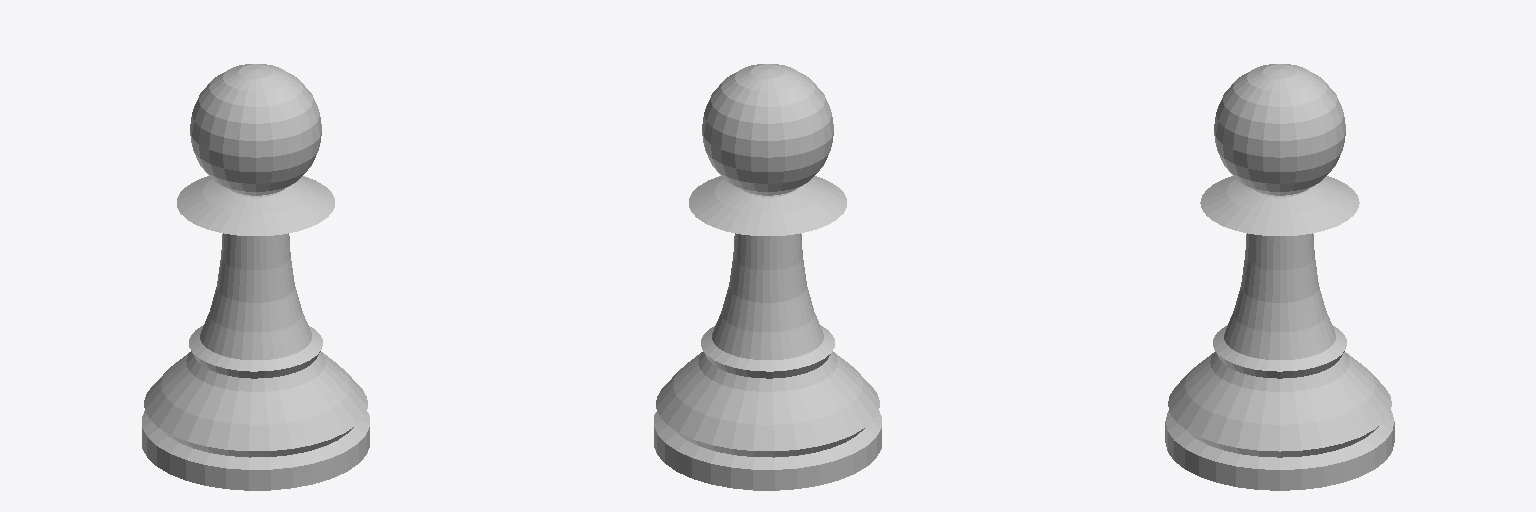
File: pawn.obj
3 views of the same model, side by side, from view 1: azimuth 30°, elevation 25°; view 2: azimuth 150°, elevation 25°; view 3: azimuth 270°, elevation 25° (orthographic).
Parts seen in each view (by area): view 1: pawn_Cylinder; view 2: pawn_Cylinder; view 3: pawn_Cylinder.
Boxes of the visible parts, x1,y1,x2,y2 form: pawn_Cylinder: [142, 64, 369, 490]; pawn_Cylinder: [654, 64, 881, 490]; pawn_Cylinder: [1165, 64, 1394, 490].
Bounding box in the file's own units: 2 × 3.59 × 2.